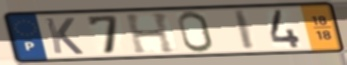0: (176, 10, 217, 54)
4: (269, 8, 303, 50)
7: (86, 14, 122, 55)
H: (123, 11, 179, 55)
I: (231, 9, 257, 52)
K: (42, 17, 86, 56)
